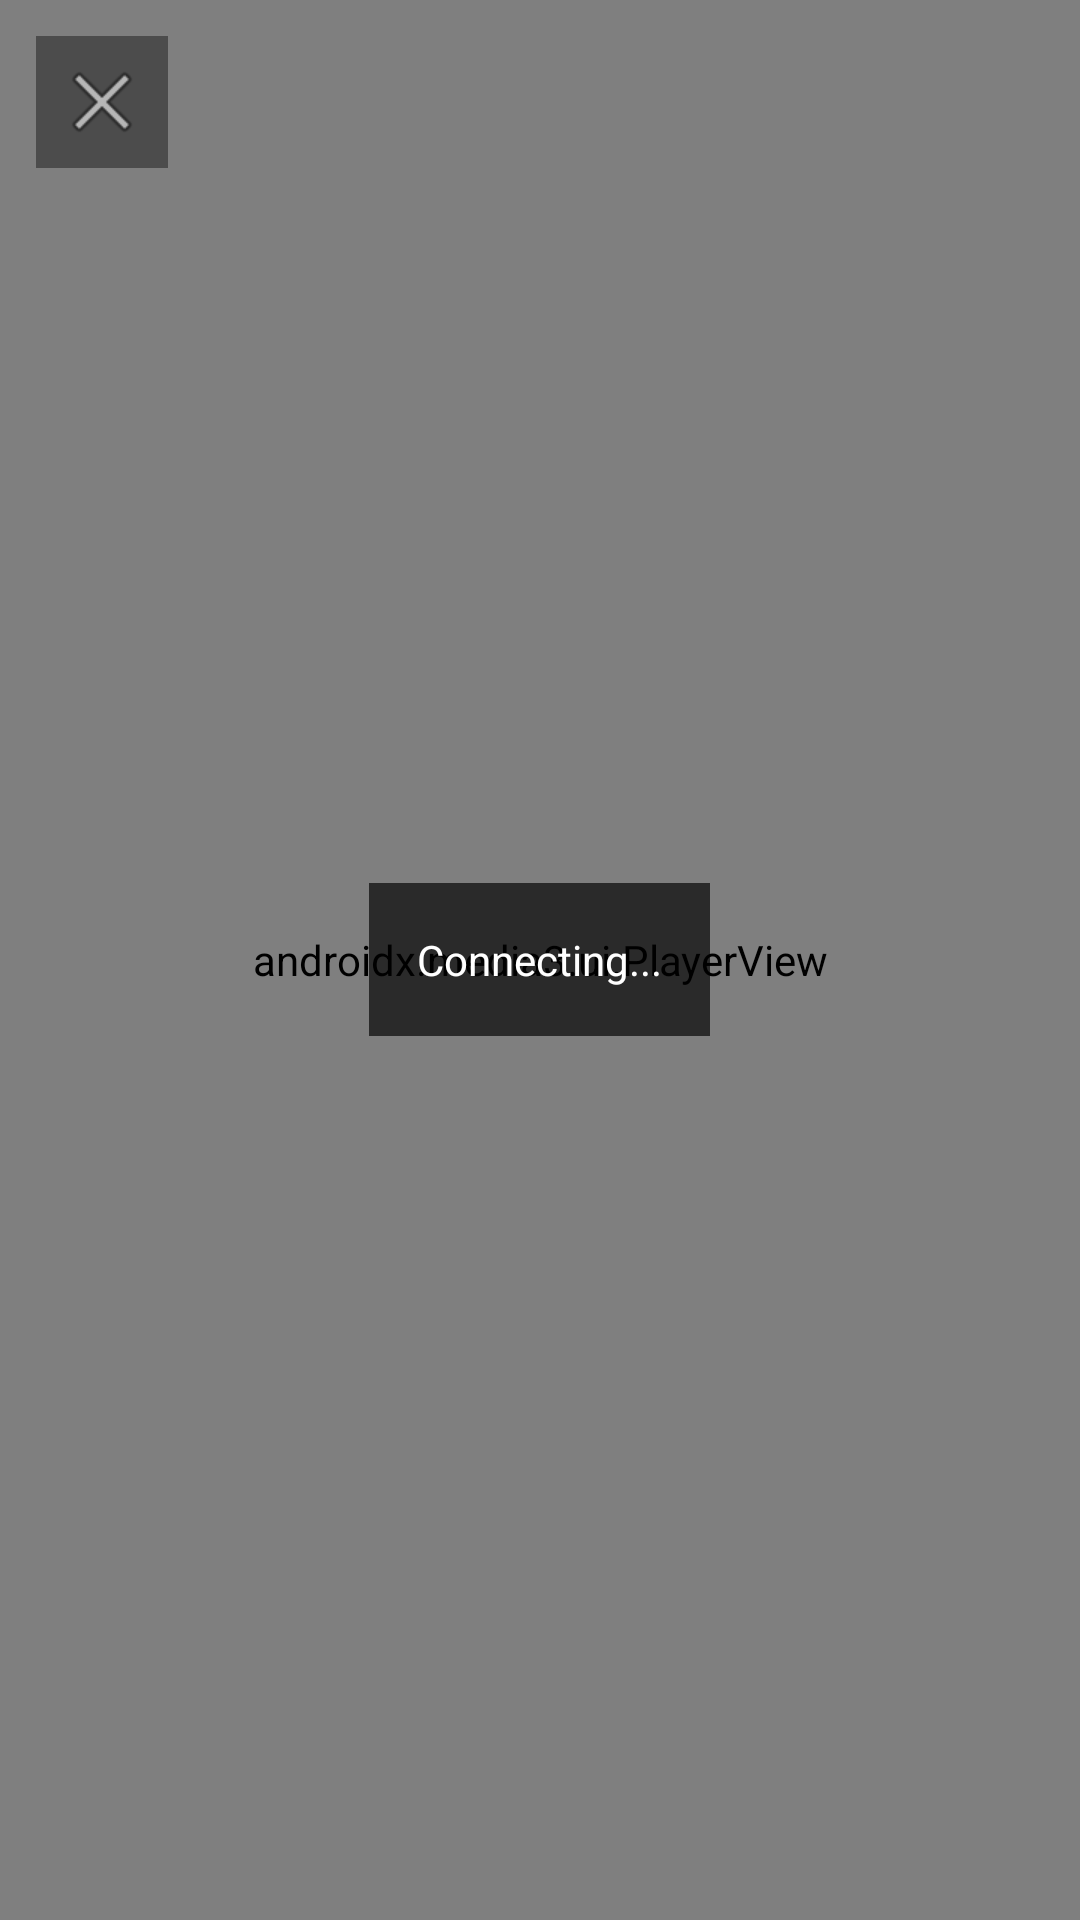

Icons on this 1080px×1920px Android screen, each with its box as {"x1": x1, "y1": y1, "x2": x2, "y2": y2}:
Close: {"x1": 36, "y1": 36, "x2": 168, "y2": 168}
